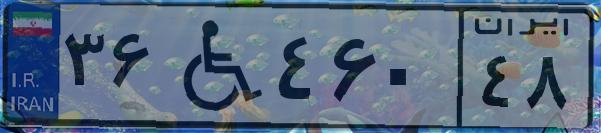0: (385, 28, 445, 110)
3: (57, 26, 110, 100)
4: (270, 28, 330, 110), (475, 38, 525, 113)
6: (330, 28, 385, 110), (110, 28, 158, 98)
8: (525, 38, 570, 115)
ژ (معلولین و جانبازان): (158, 12, 270, 120)
